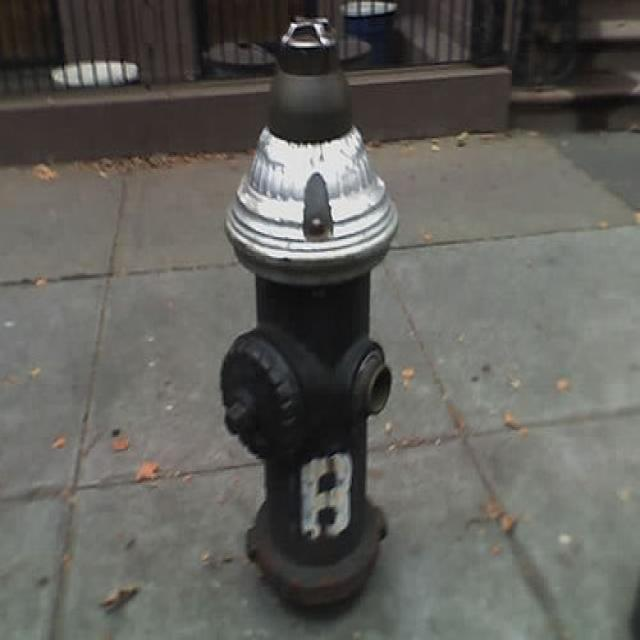fire_hydrant: (218, 10, 398, 613)
